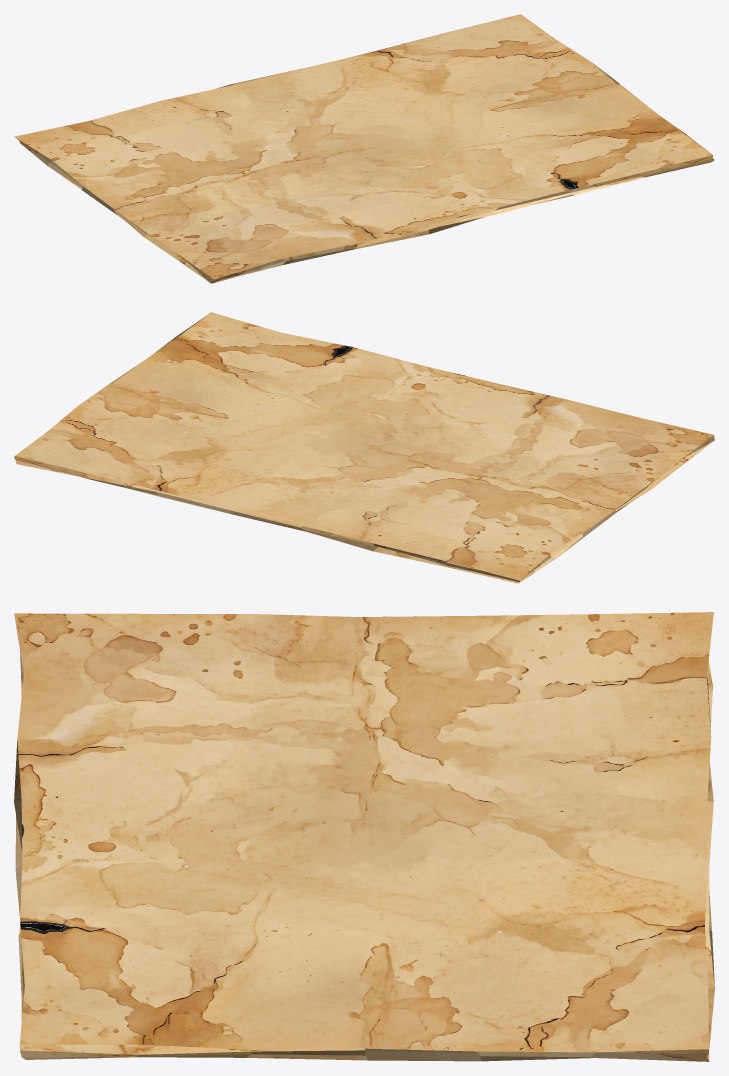
Rendered from nota.fbx.
3 views of the same model, one above another, from view 1: azimuth 30°, elevation 25°; view 2: azimuth 150°, elevation 25°; view 3: azimuth 270°, elevation 25° (orthographic). The views are drawn at different scales.
Parts seen in each view (by area): view 1: Cube; view 2: Cube; view 3: Cube.
Boxes of the visible parts, bbox=[...] form: Cube: bbox=[14, 14, 714, 283]; Cube: bbox=[14, 312, 714, 583]; Cube: bbox=[14, 612, 714, 1061].
Bounding box in the file's own units: 54.55 × 1.13 × 36.6.
1 material, 1 textured.
